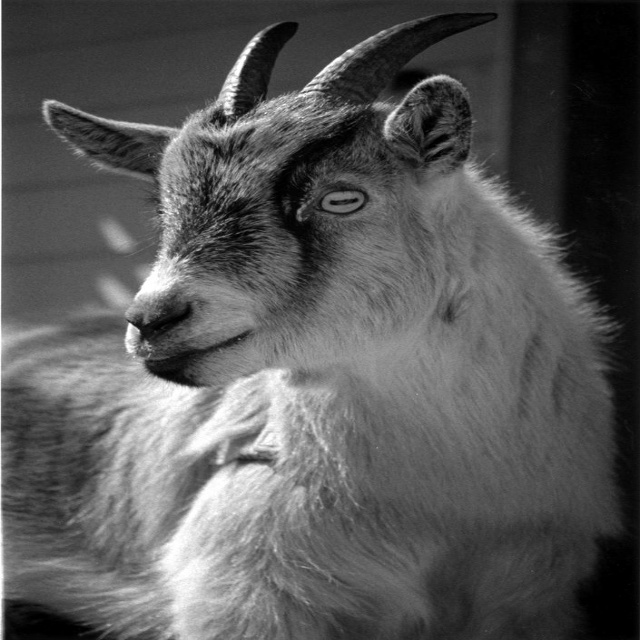Goat: (0, 6, 613, 640)
